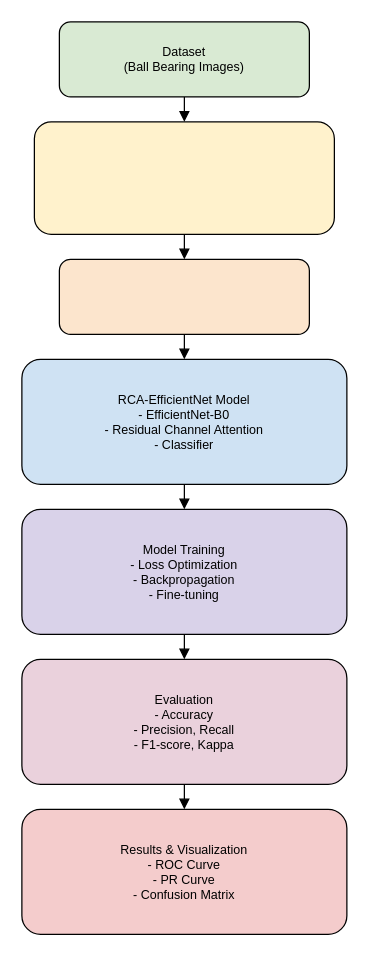
Some shapes in this 369 by 956 pixel diagram are drawn without their labels. The shapes that lost their labels are listed below. From the top down, each one's centre as x and y in pixels, then its label:
[183,177]: Preprocessing - Resize (224×224) - Normalization - Augmentation
[183,296]: Train-Test Split (Training / Validation)
